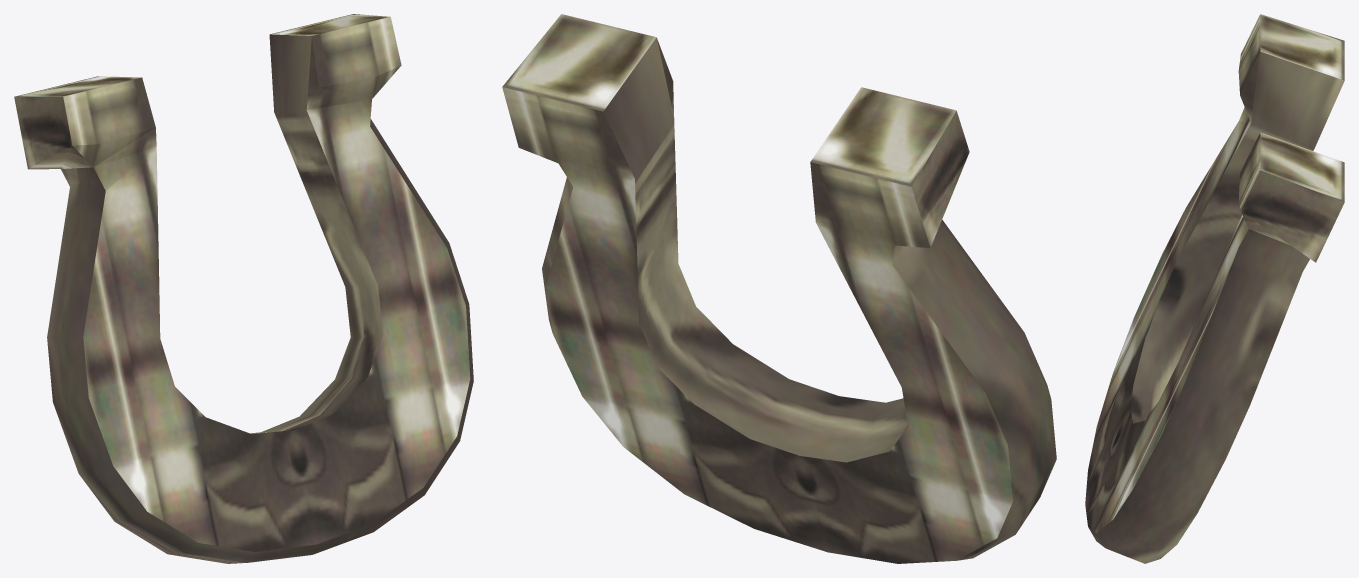
The picture shows the model from 3 angles, left to right: view 1: azimuth 30°, elevation 25°; view 2: azimuth 150°, elevation 25°; view 3: azimuth 270°, elevation 25°; orthographic projection. The views are drawn at different scales.
Parts seen in each view (by area): view 1: horseshoe; view 2: horseshoe; view 3: horseshoe.
Boxes of the visible parts, box(x1,y1,x2,y2) form: horseshoe: box(14, 14, 473, 563); horseshoe: box(502, 14, 1056, 563); horseshoe: box(1085, 14, 1344, 563).
Bounding box in the file's own units: 130 × 142 × 75.69.
1 material, 1 textured.
